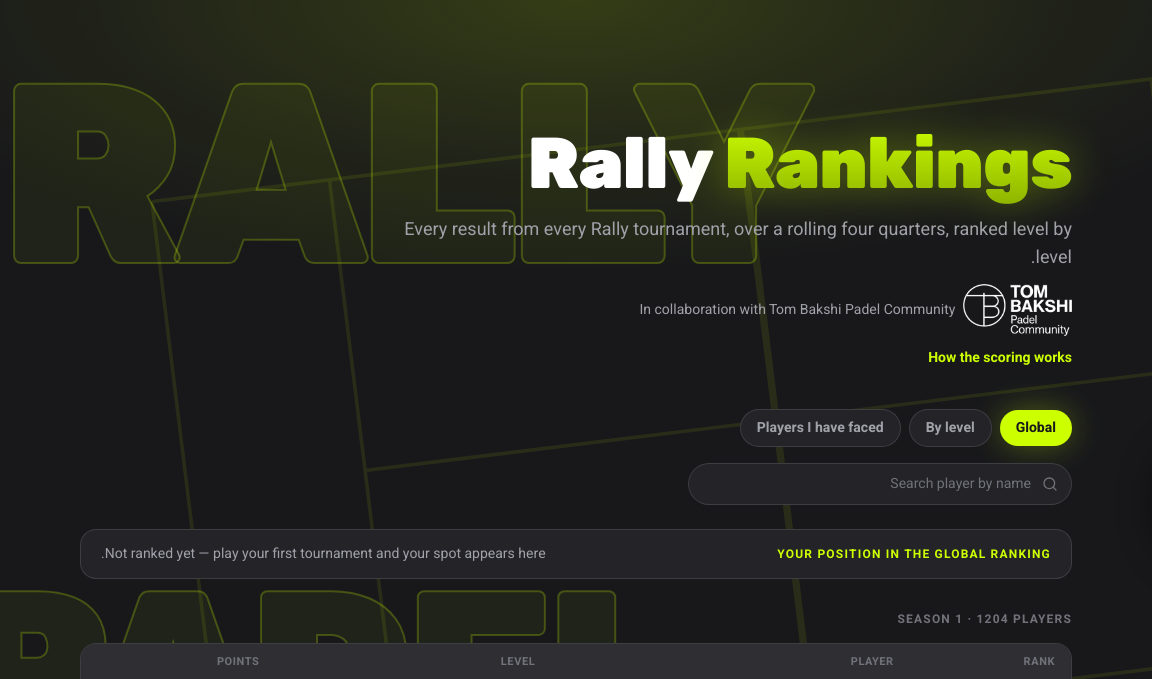
Test: the circle frame › signed in with opponents: a real circle renders as the table, not the invitation
Click the button with test id "league-frame-circle".
click(820, 428)  # box [740, 409, 901, 447]
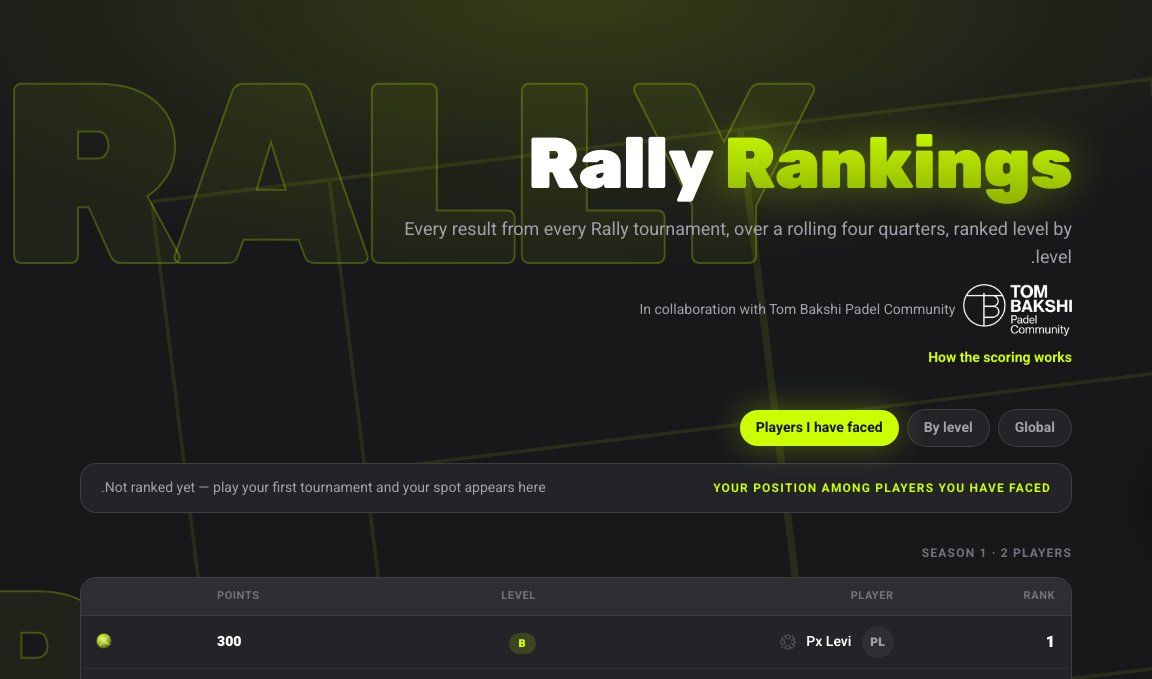
Result: the text "Px Levi" is shown at [806, 632, 852, 652]
